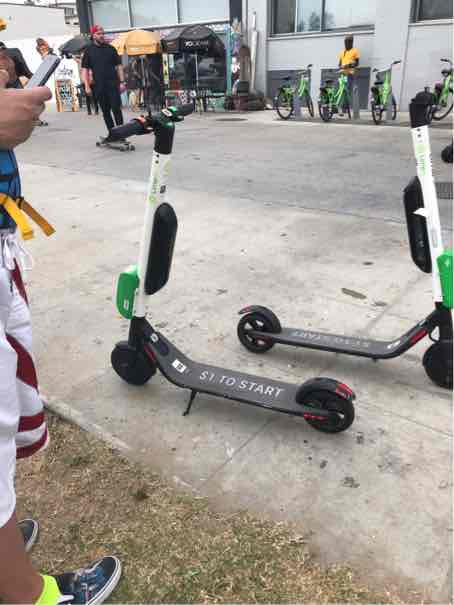scooter: (87, 95, 363, 445), (234, 85, 454, 393)
